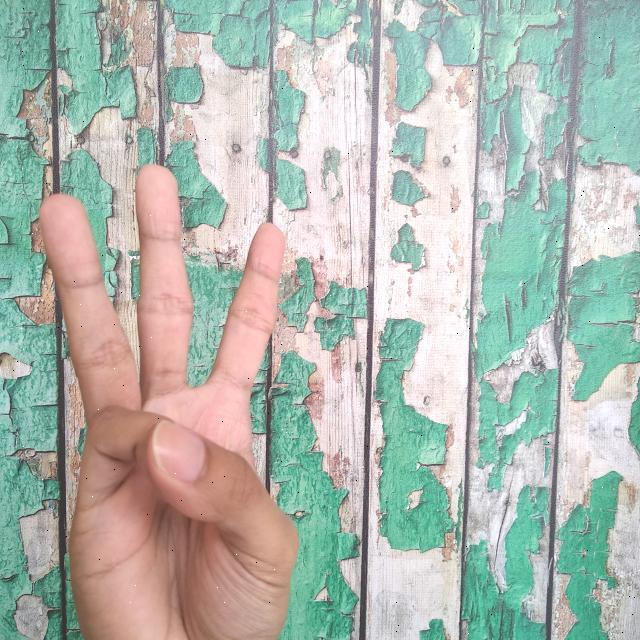W: (26, 161, 310, 640)
